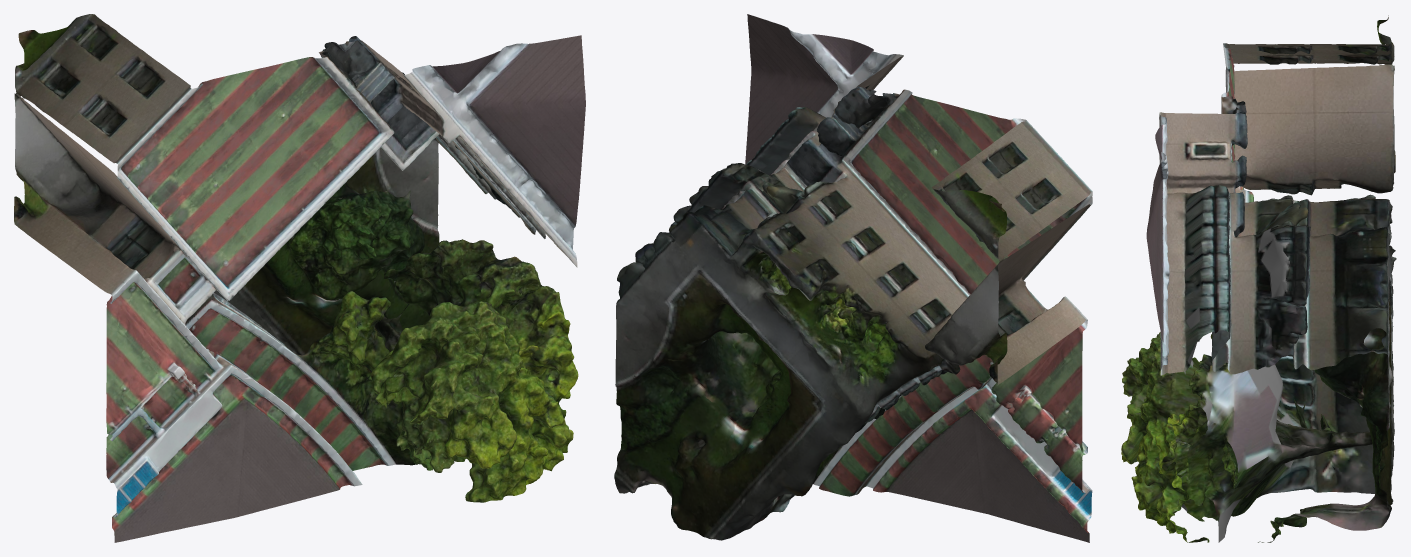
Rendered from Tile_+007_+023.fbx.
3 views of the same model, side by side, from view 1: azimuth 30°, elevation 25°; view 2: azimuth 150°, elevation 25°; view 3: azimuth 270°, elevation 25° (orthographic). The views are drawn at different scales.
Visible parts, largest first — view 1: DefaultName; view 2: DefaultName; view 3: DefaultName.
Boxes of the visible parts, x1=… form: DefaultName: x1=14, y1=14, x2=585, y2=542; DefaultName: x1=614, y1=14, x2=1092, y2=542; DefaultName: x1=1121, y1=15, x2=1396, y2=542.
Size of the model in its own units: 22.54 by 22.54 by 15.58.
